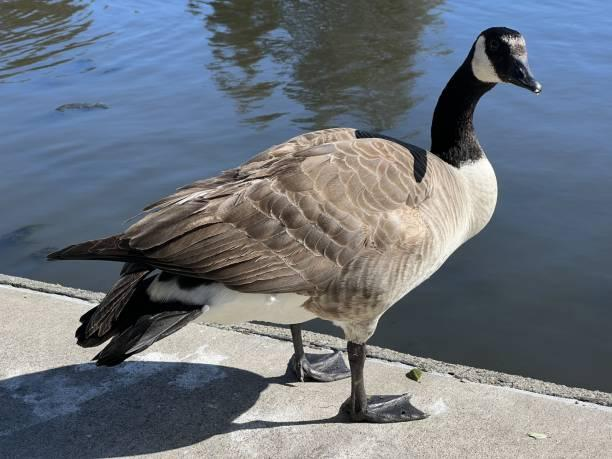Canadian-Goose: (44, 20, 549, 424)
